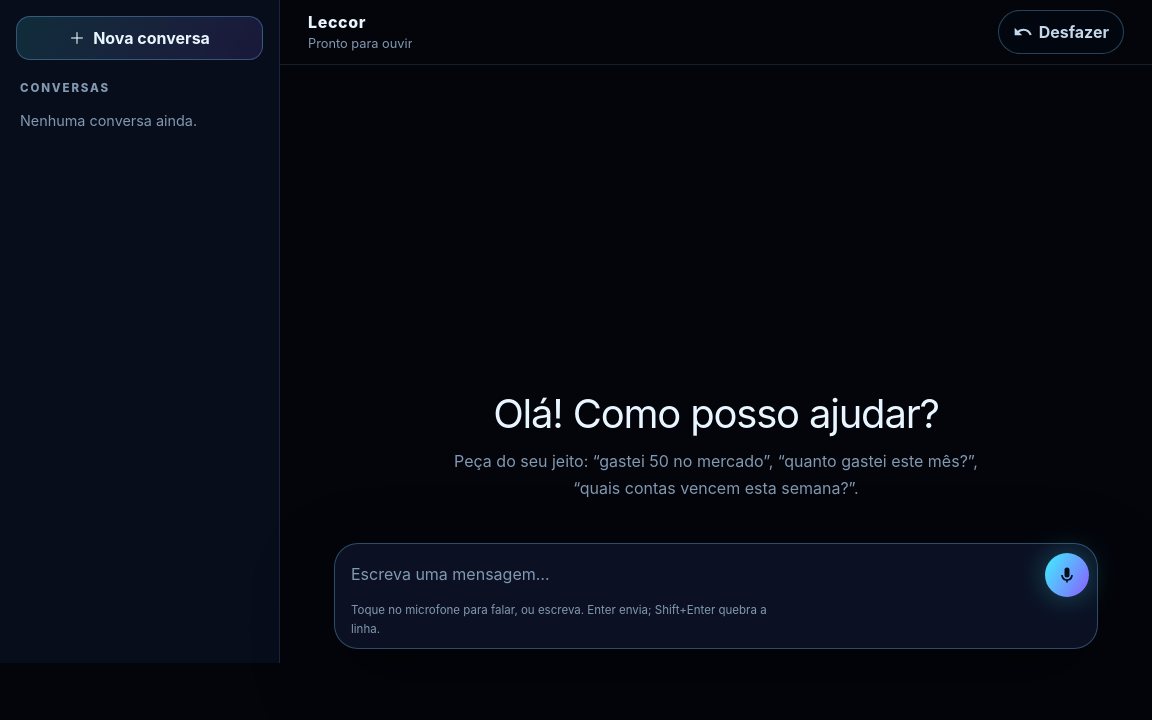
Test: voice in the chat › discards the recording with Escape and releases the microphone
Click the button named "Falar". click: [1067, 575]
box: x1=1045 y1=553 x2=1089 y2=597
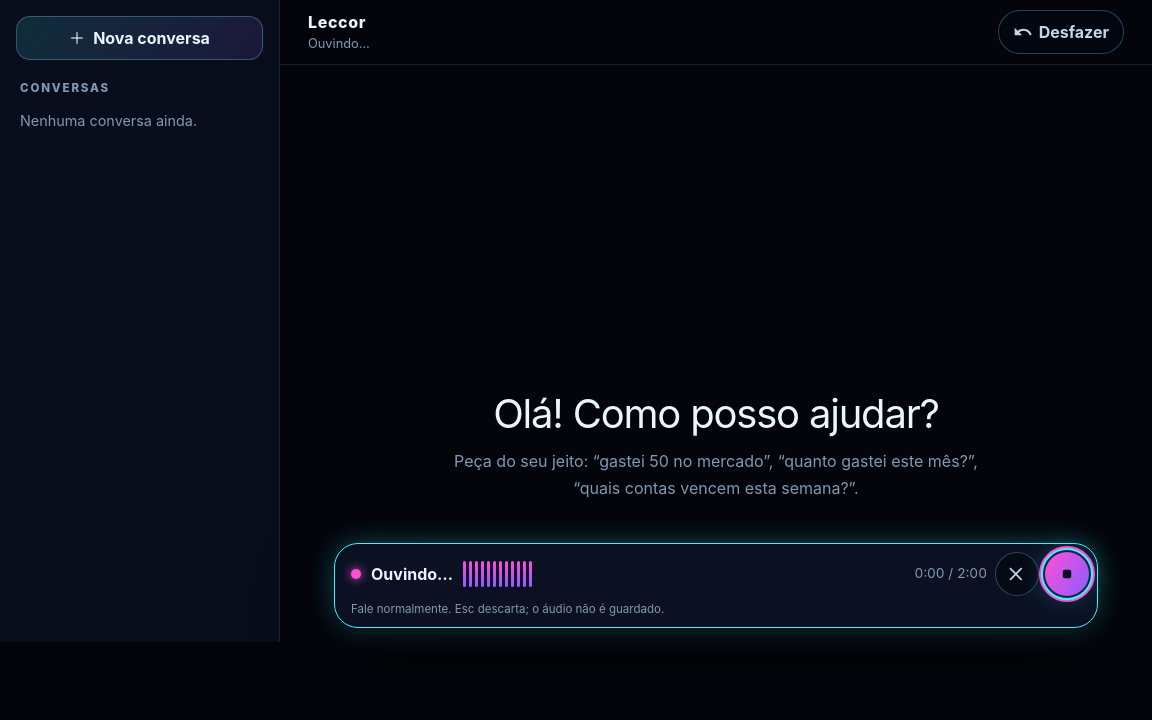
Press Escape
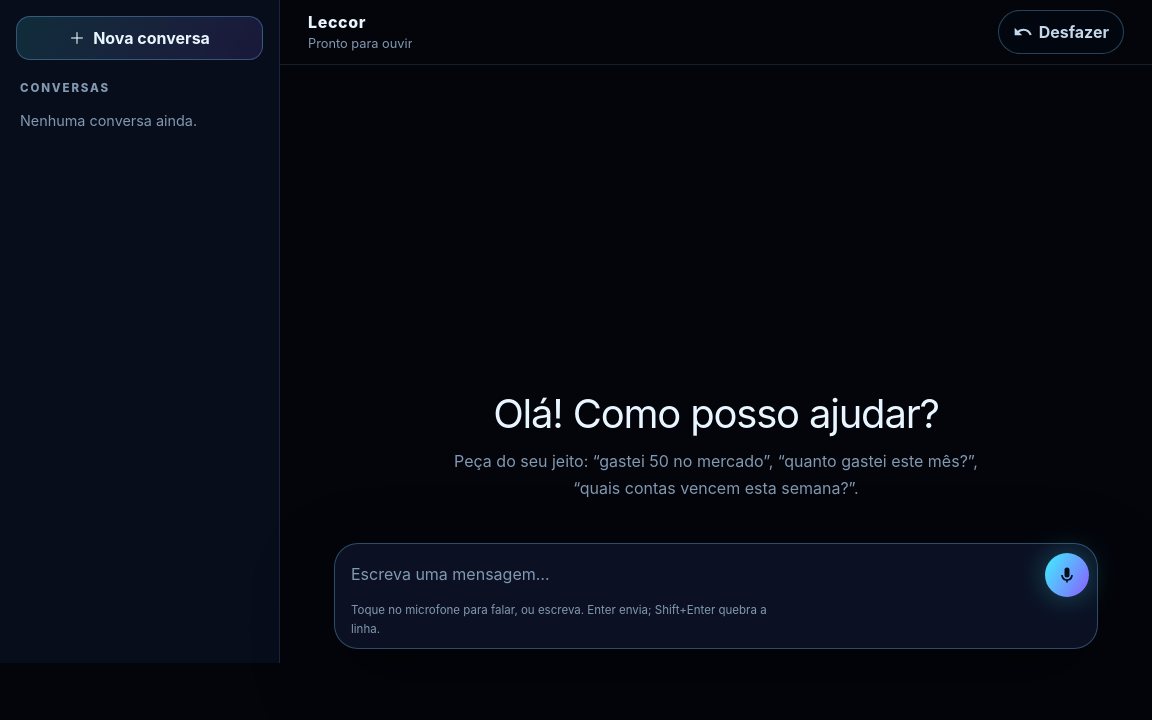
Now the button named "Falar" is shown, box x1=1045 y1=553 x2=1089 y2=597
